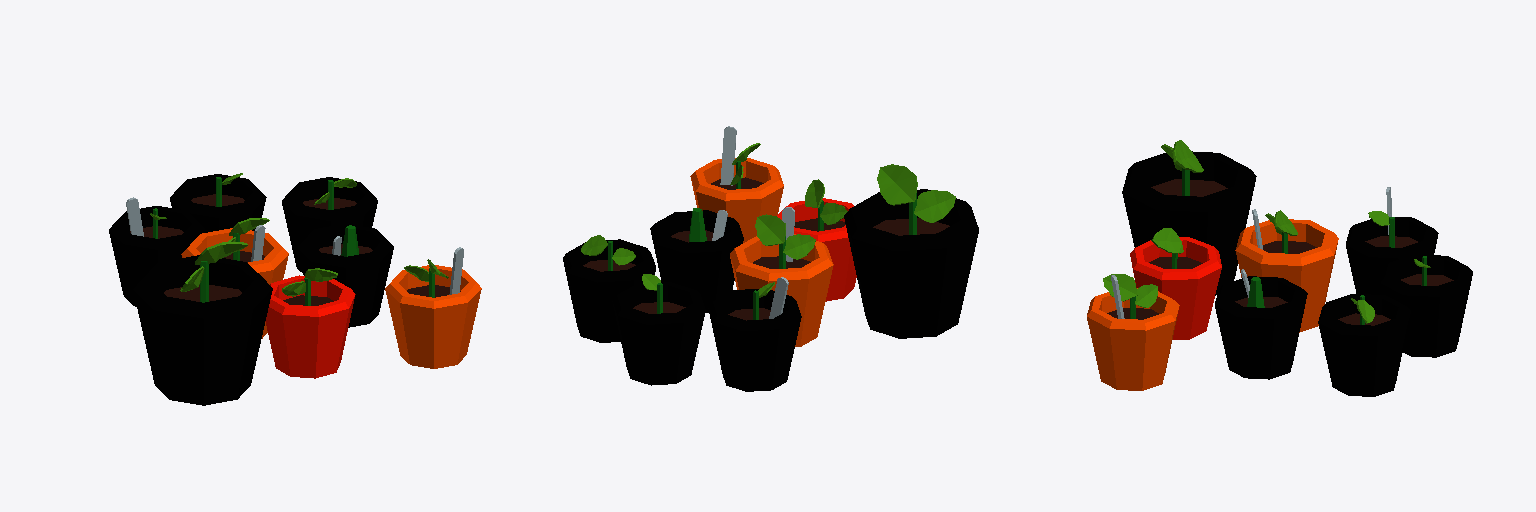
The picture shows the model from 3 angles: view 1: azimuth 30°, elevation 25°; view 2: azimuth 150°, elevation 25°; view 3: azimuth 270°, elevation 25°; orthographic projection.
Visible parts, largest first — view 1: group[number redacted], group[number redacted], group[number redacted], group[number redacted], group[number redacted], group[number redacted], group[number redacted], group[number redacted]; view 2: group[number redacted], group[number redacted], group[number redacted], group[number redacted], group[number redacted], group[number redacted], group[number redacted], group[number redacted]; view 3: group[number redacted], group[number redacted], group[number redacted], group[number redacted], group[number redacted], group[number redacted], group[number redacted], group[number redacted].
Part boxes in pixels (x1,y1,x2,y2): group[number redacted]: (133,242,272,405); group[number redacted]: (385,247,481,368); group[number redacted]: (265,268,355,378); group[number redacted]: (298,224,393,327); group[number redacted]: (109,197,204,306); group[number redacted]: (282,177,377,272); group[number redacted]: (170,173,266,232); group[number redacted]: (181,218,288,338); group[number redacted]: (844,164,978,338); group[number redacted]: (708,277,801,391); group[number redacted]: (612,274,705,385); group[number redacted]: (730,207,833,346); group[number redacted]: (650,208,743,312); group[number redacted]: (563,235,655,342); group[number redacted]: (690,126,783,242); group[number redacted]: (777,179,856,301); group[number redacted]: (1122,140,1256,295); group[number redacted]: (1087,274,1179,390); group[number redacted]: (1215,269,1307,379); group[number redacted]: (1318,294,1410,396); group[number redacted]: (1380,254,1472,357); group[number redacted]: (1235,209,1338,332); group[number redacted]: (1130,228,1221,339); group[number redacted]: (1346,187,1438,294).
Bounding box in the file's own units: 0.3492 × 0.1542 × 0.3735.